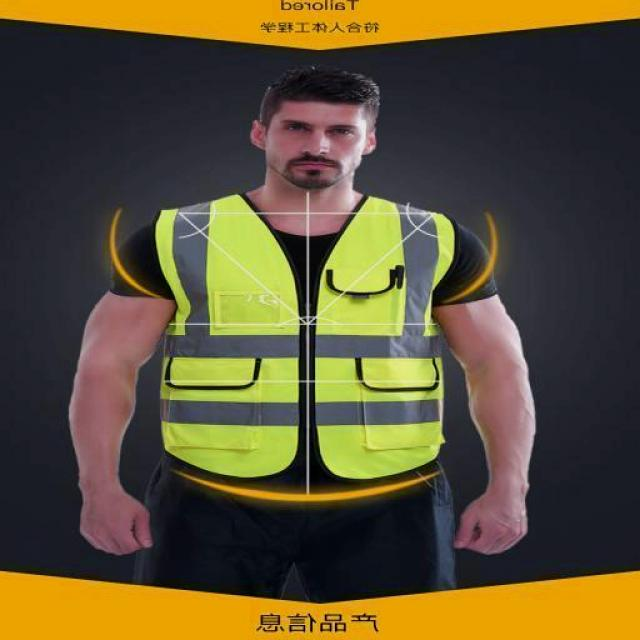face_nomask: (270, 112, 368, 186)
hand_noglove: (72, 480, 164, 560), (449, 484, 530, 564)
head_nohelmet: (253, 62, 387, 118)
person: (71, 61, 540, 587)
vest: (142, 198, 470, 502)
